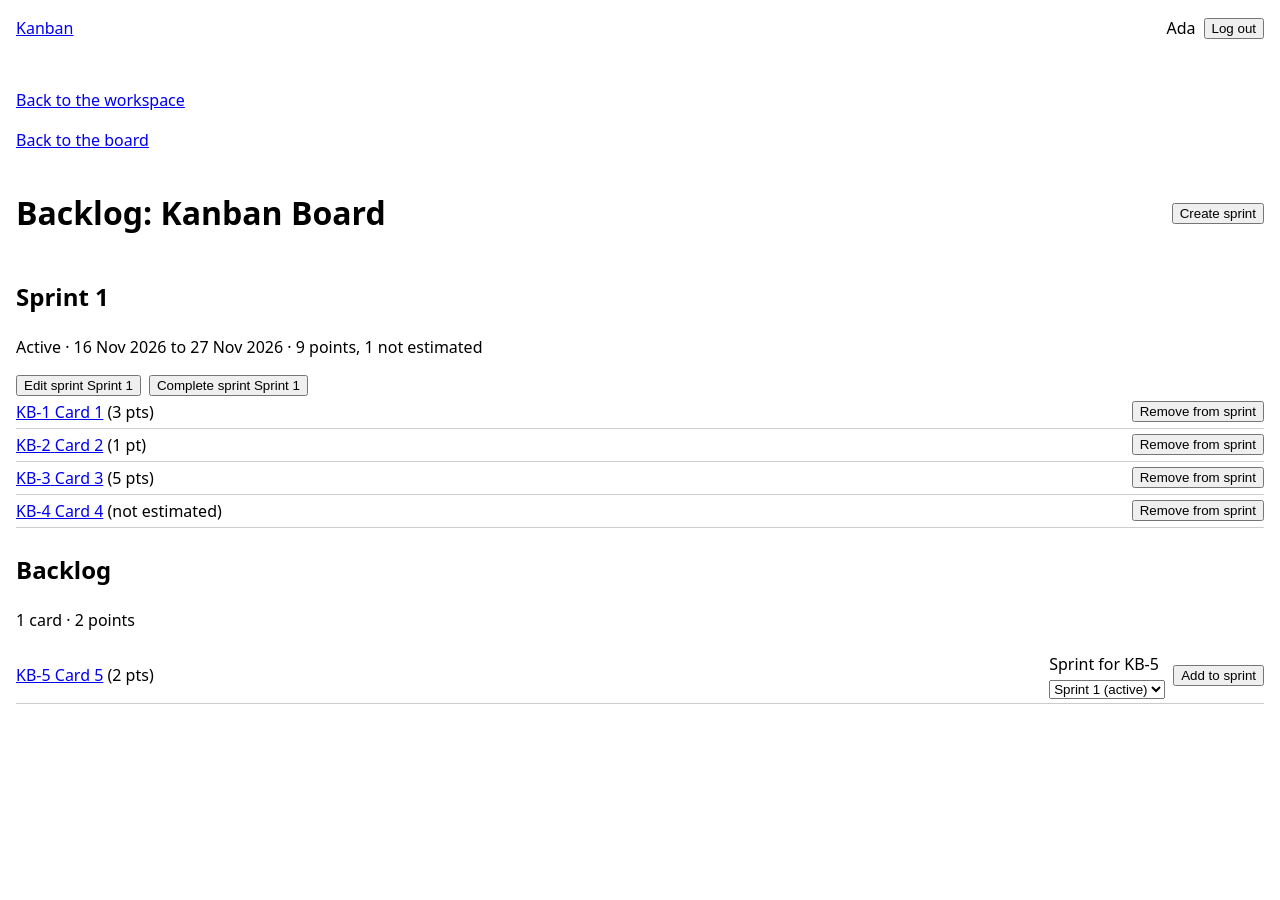
Test: complete a sprint › shows the error and keeps the sprint when the server refuses
Click the button "Complete sprint Sprint 1".
click(228, 385)  # box [149,375,308,396]
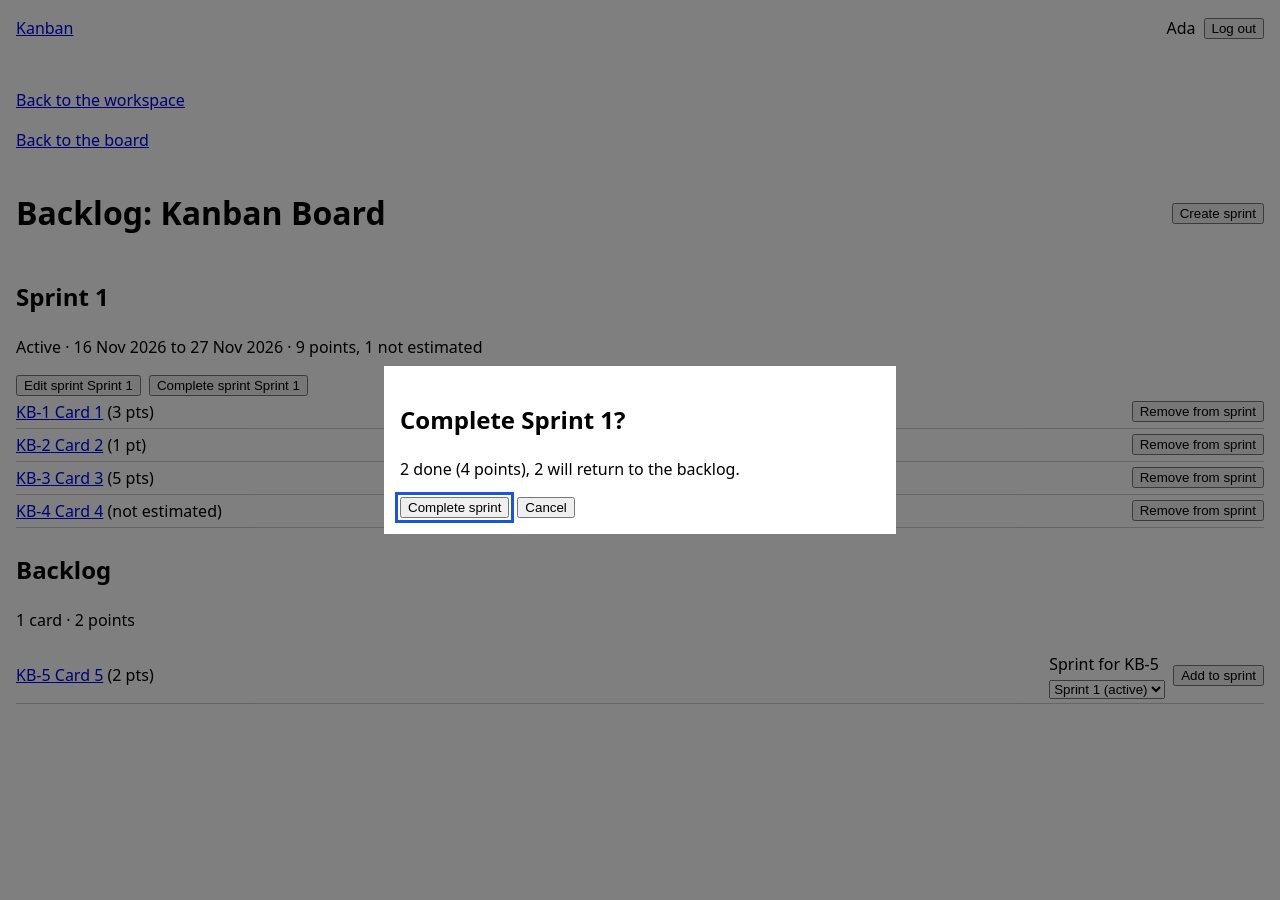
Click the button "Complete sprint".
click(455, 508)  # box [400,497,509,518]
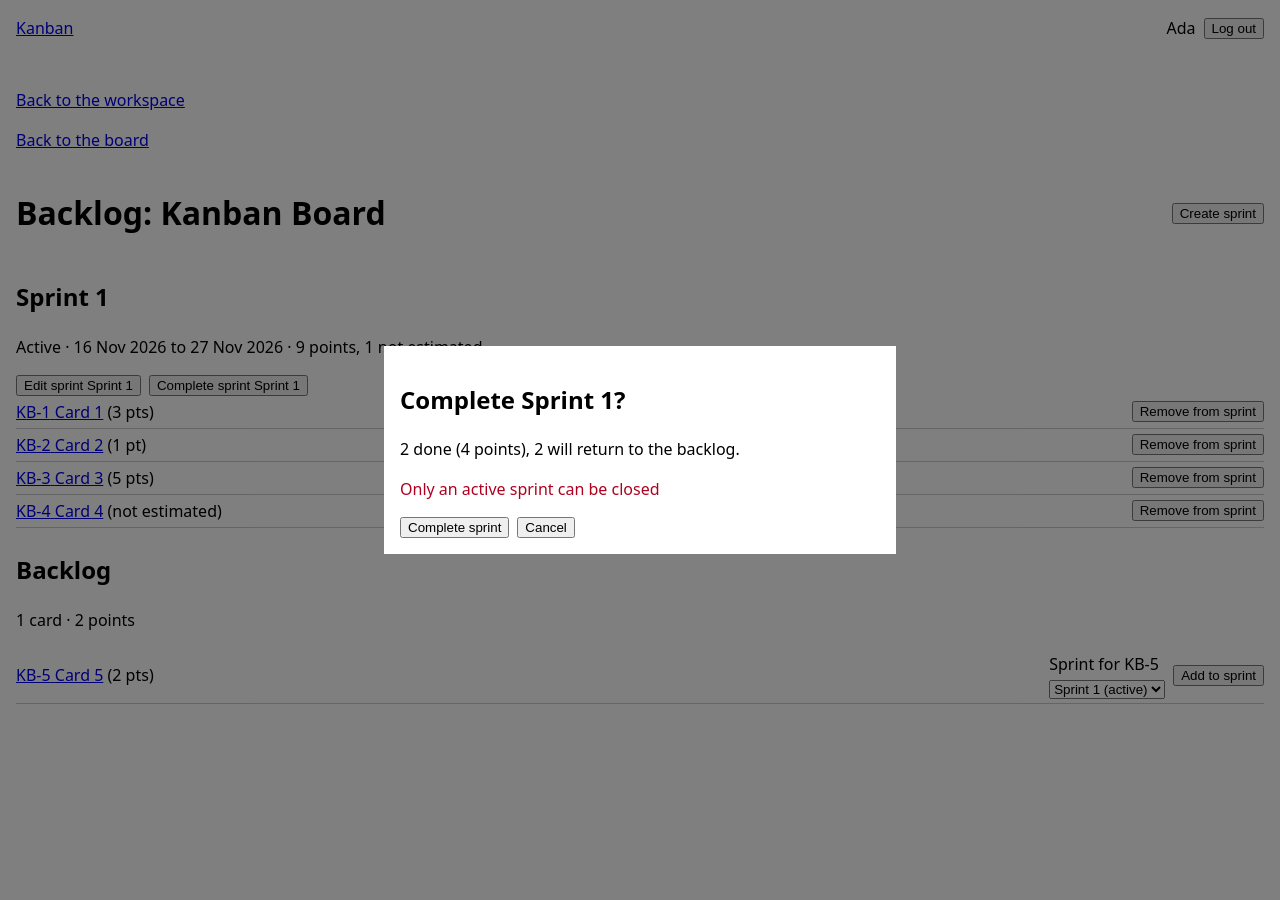
Expected: the element "Sprint 1" is shown, [16,279,1264,528]
Now the message reads "Only an active sprint can be closed", box [400,478,660,500]
